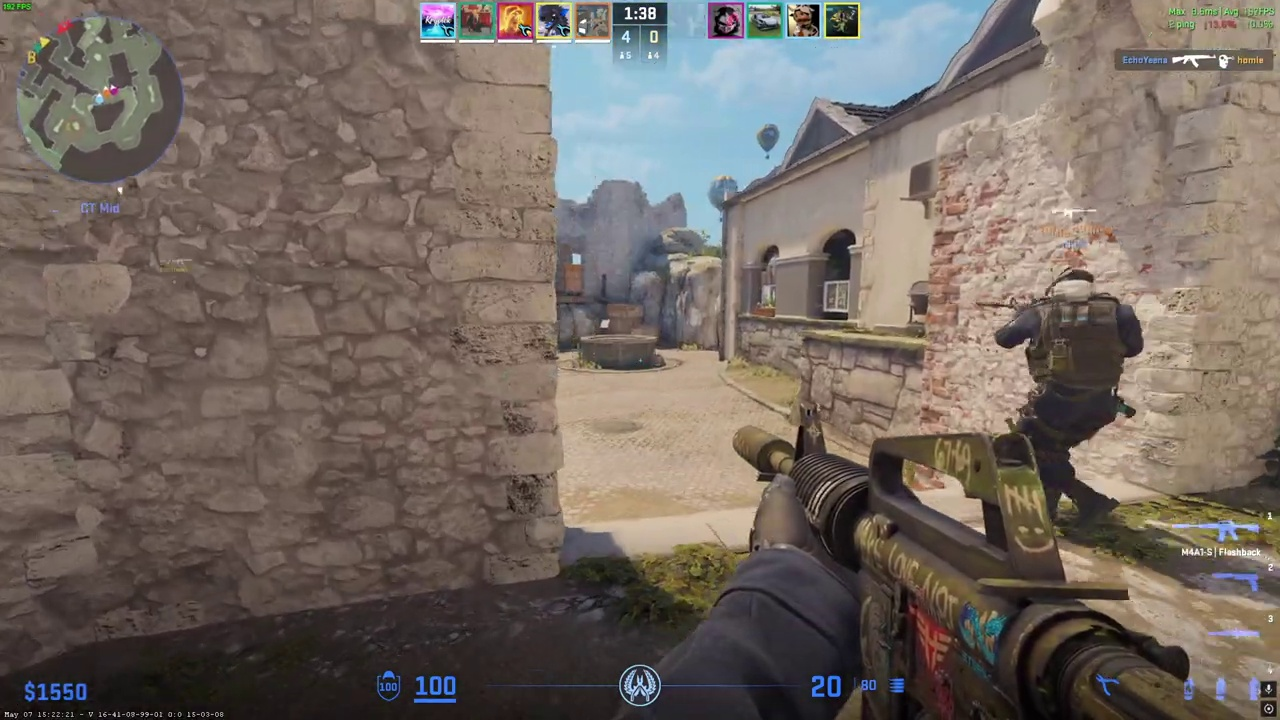CT: (1009, 267, 1132, 563)
